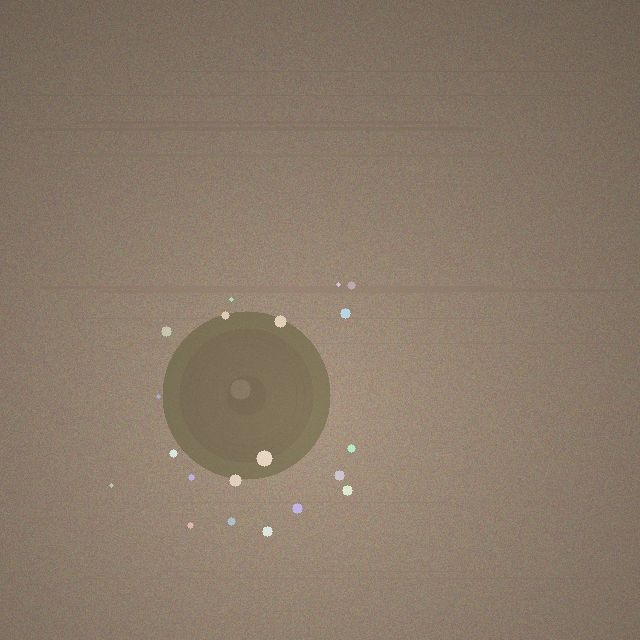overburn: (162, 311, 330, 479)
